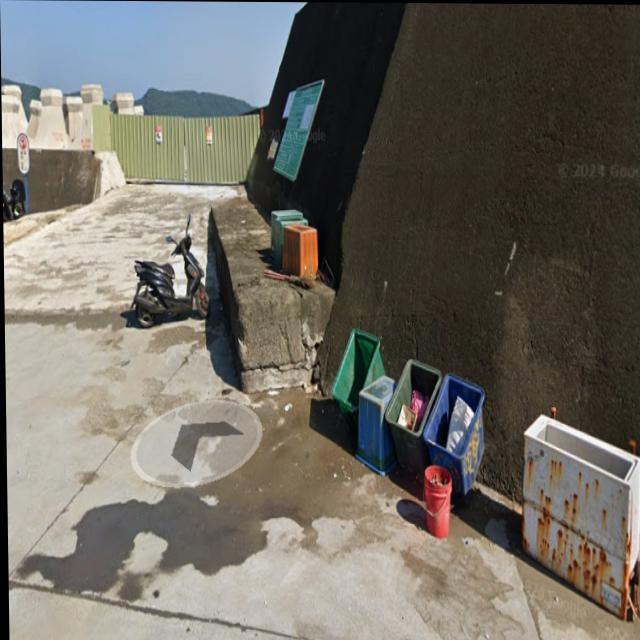pollute: (323, 320, 491, 539), (514, 405, 640, 629), (268, 201, 325, 286)
